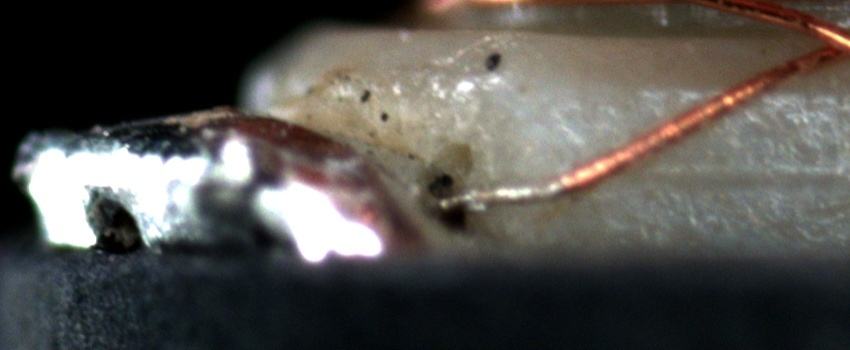DL: (490, 63, 850, 127), (580, 144, 850, 208)
TS: (439, 176, 565, 208)
TTCW: (433, 159, 606, 213)
